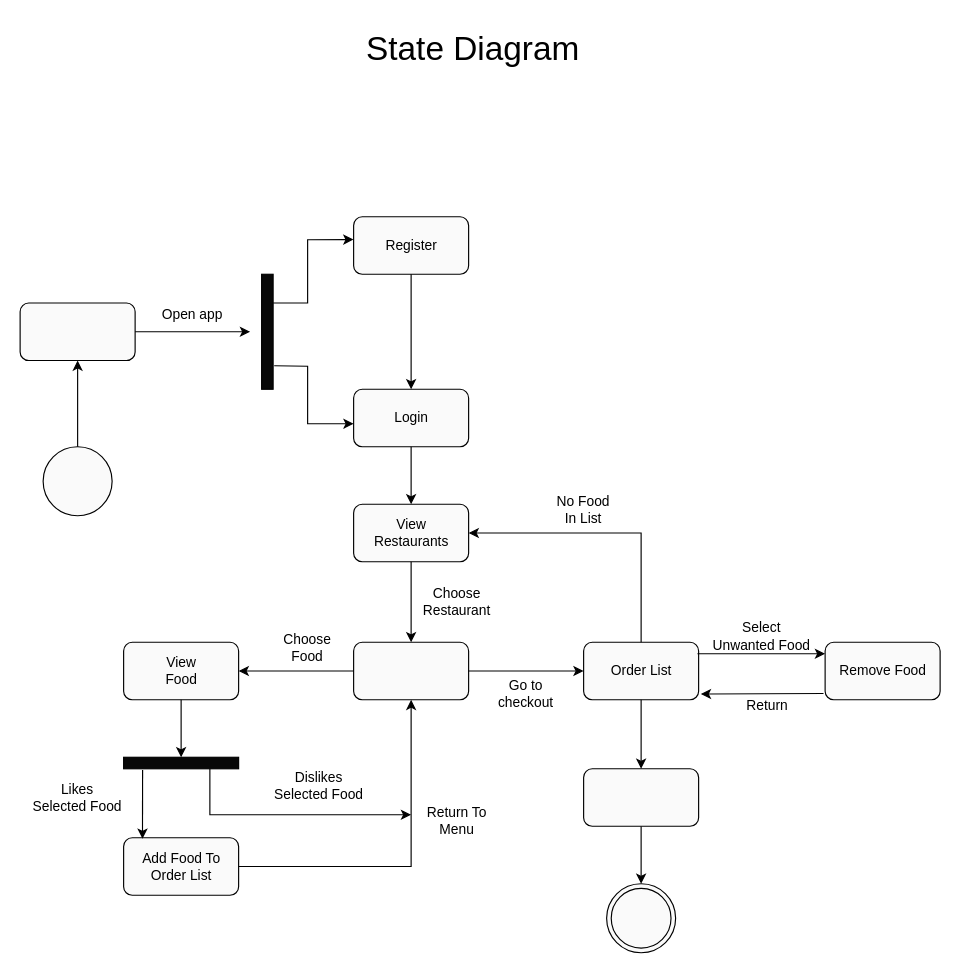
Image size: 960x973. Some labels were removed from this diagram. The box of each missing label's shape, as (x1, y1, x2, y2) in pixels:
Idle: (19, 302, 135, 361)
Place Order: (582, 768, 699, 826)
View Menu: (352, 641, 469, 700)
